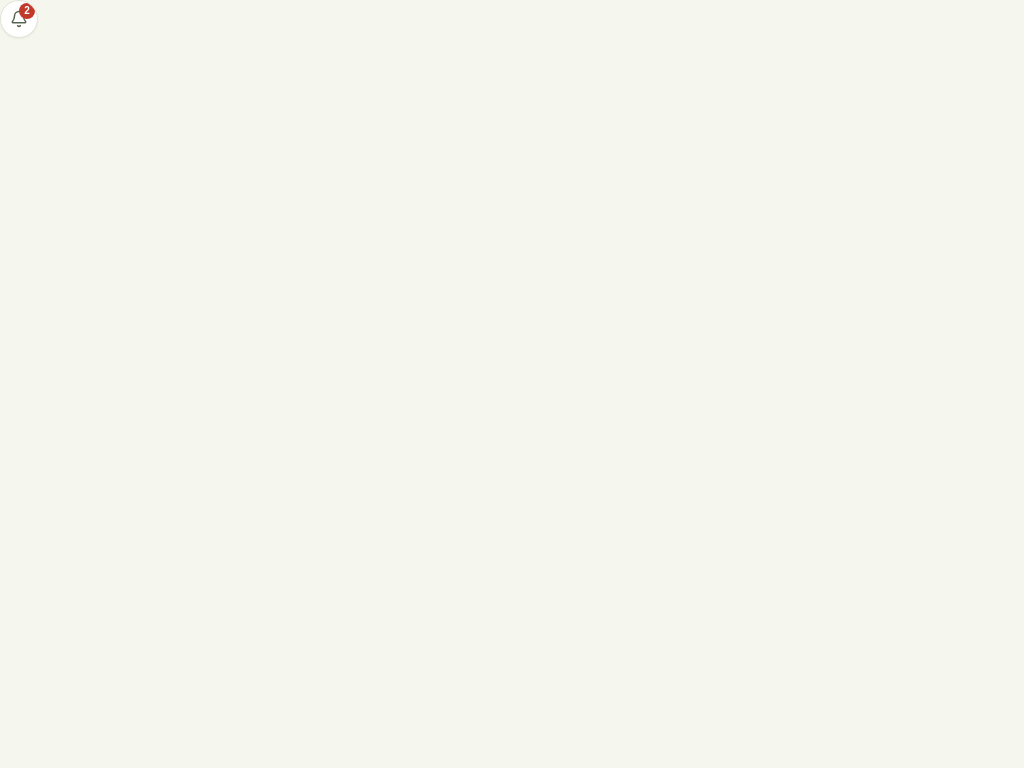
Scenario: the notification bell › fetches nothing until it is opened
Click the button named "unread" at (19, 19), box x1=0 y1=0 x2=38 y2=38
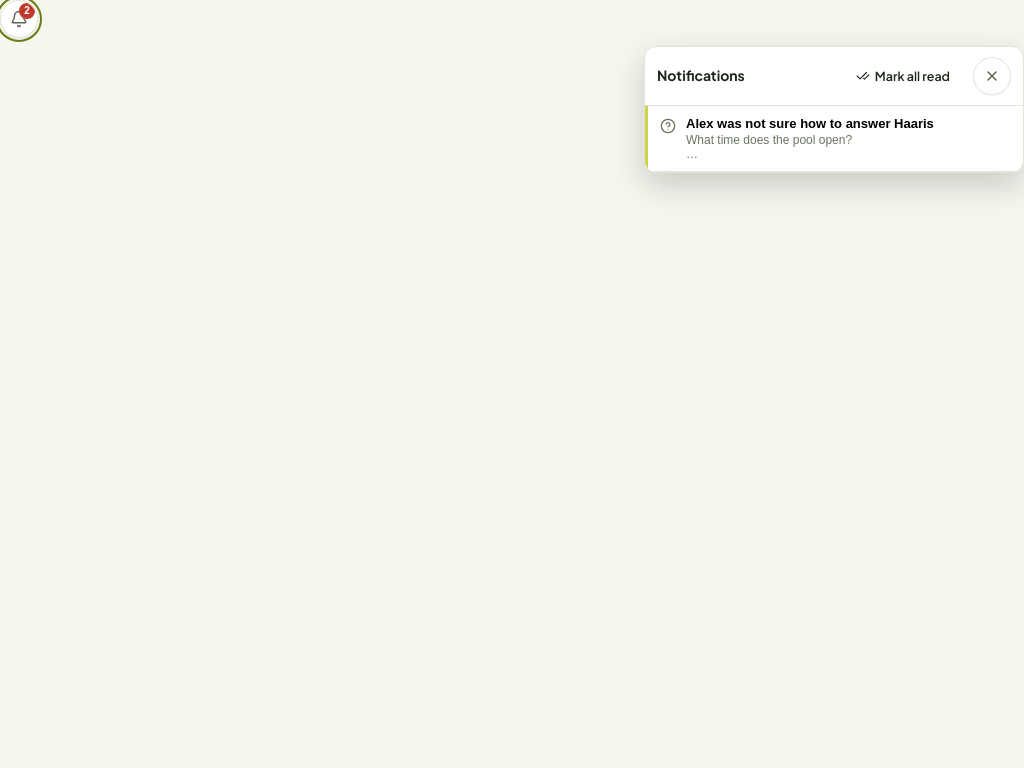
Expected: the text "Alex was not sure how to answer Haaris" is shown, x1=686 y1=116 x2=934 y2=131
